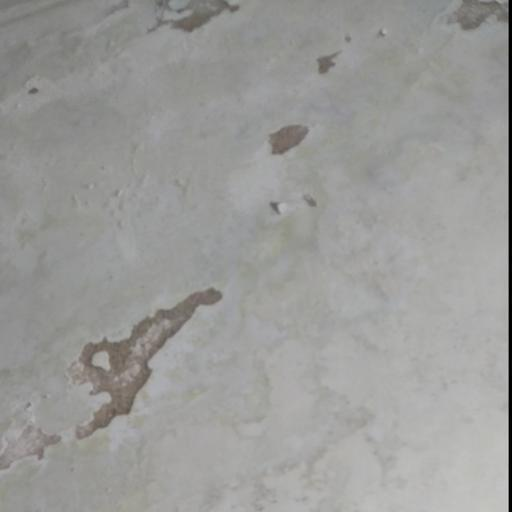peeling: (0, 265, 246, 472), (258, 101, 326, 178), (145, 2, 242, 39), (429, 0, 512, 39), (302, 38, 348, 84)
